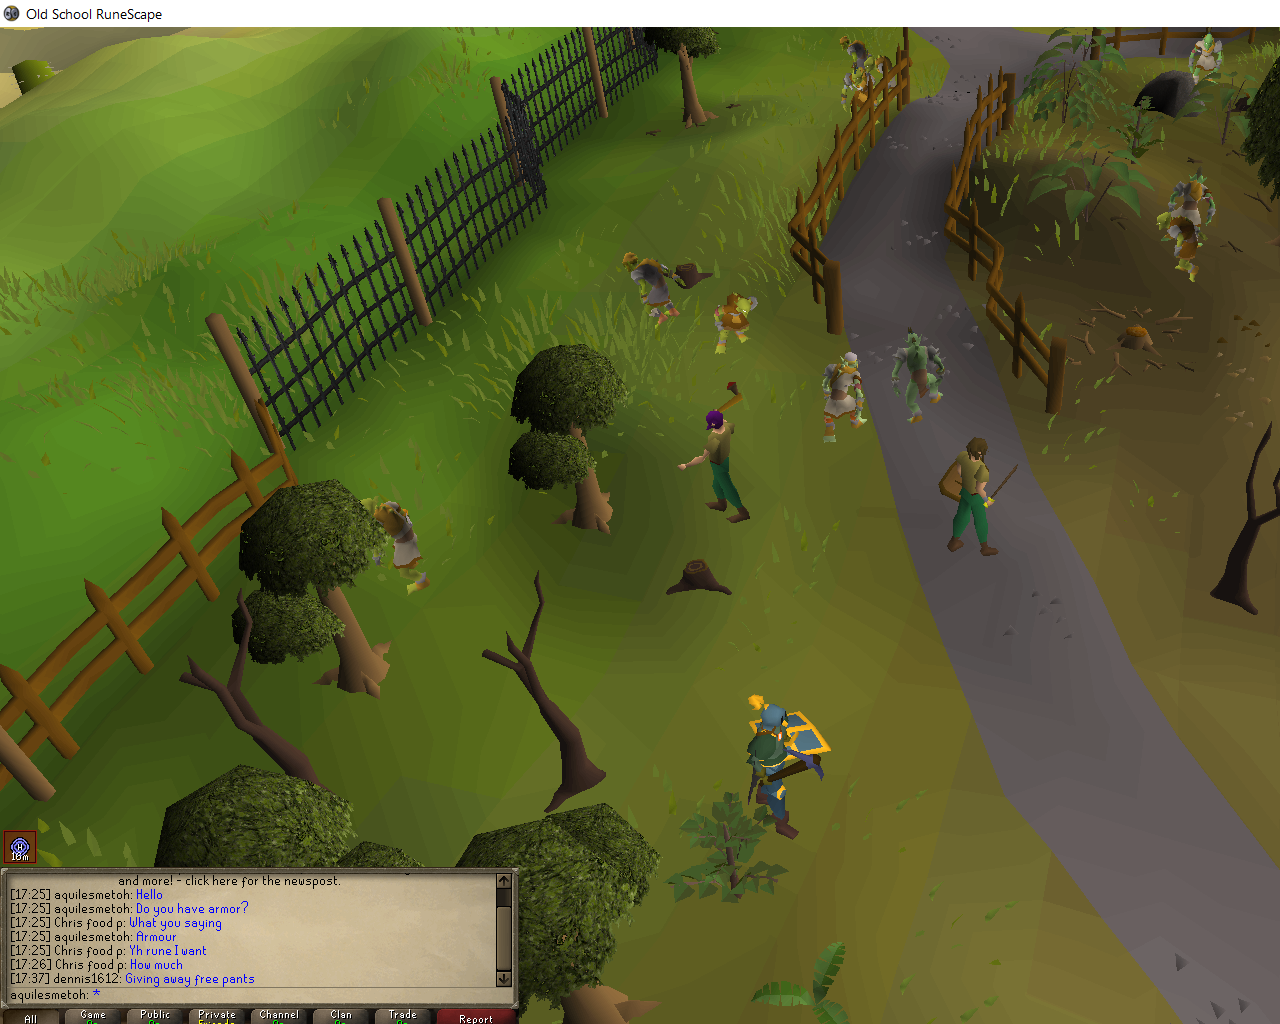Goblin: (348, 497, 438, 597), (621, 251, 692, 330), (890, 328, 948, 425), (820, 347, 869, 446), (1168, 167, 1215, 250), (1156, 211, 1206, 283), (713, 288, 762, 355), (840, 65, 882, 129), (1188, 32, 1226, 87), (865, 56, 900, 103), (839, 36, 872, 82)
